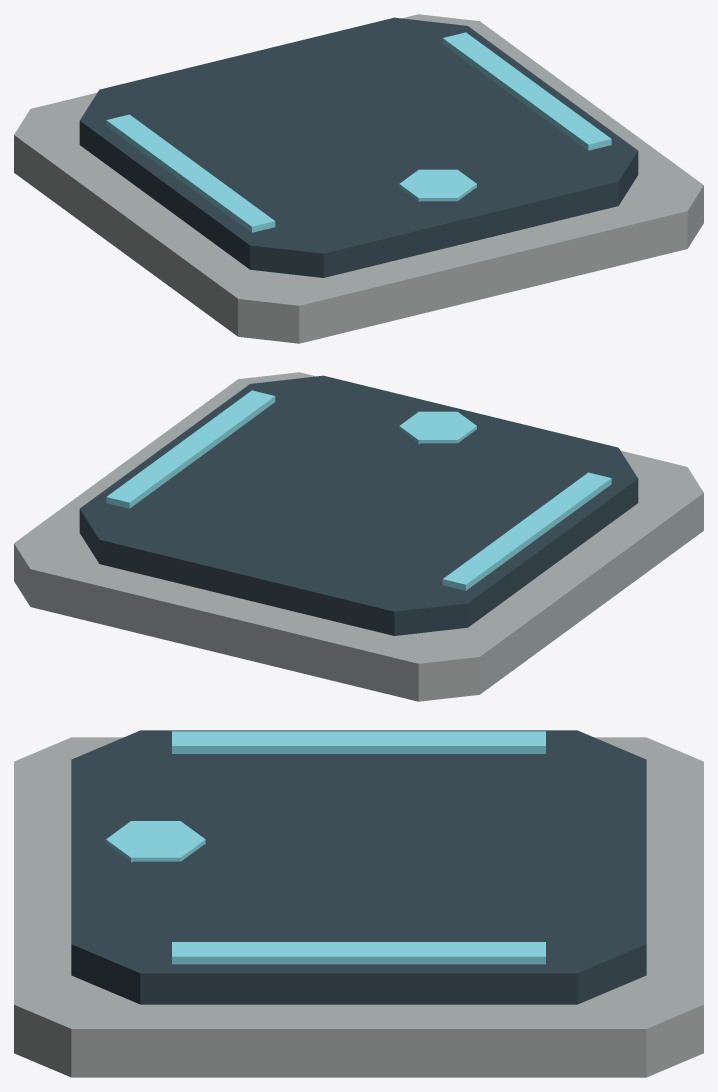
Rendered from foundation-low.glb.
The picture shows the model from 3 angles, top to bottom: view 1: azimuth 30°, elevation 25°; view 2: azimuth 150°, elevation 25°; view 3: azimuth 270°, elevation 25°; orthographic projection. The views are drawn at different scales.
Parts seen in each view (by area): view 1: asset_foundation__FP_Baked, asset_foundation__FP_Team, Hexagon; view 2: asset_foundation__FP_Baked, asset_foundation__FP_Team, Hexagon; view 3: asset_foundation__FP_Baked, asset_foundation__FP_Team, Hexagon.
Part boxes in pixels (bbox=[...]): asset_foundation__FP_Baked: bbox=[14, 14, 703, 343]; asset_foundation__FP_Team: bbox=[106, 32, 611, 232]; Hexagon: bbox=[399, 169, 476, 201]; asset_foundation__FP_Baked: bbox=[14, 372, 703, 701]; asset_foundation__FP_Team: bbox=[106, 390, 611, 590]; Hexagon: bbox=[399, 411, 476, 443]; asset_foundation__FP_Baked: bbox=[14, 730, 703, 1077]; asset_foundation__FP_Team: bbox=[172, 731, 545, 964]; Hexagon: bbox=[106, 821, 205, 861].
Size of the model in its own units: 1.8 by 0.266 by 1.8.
